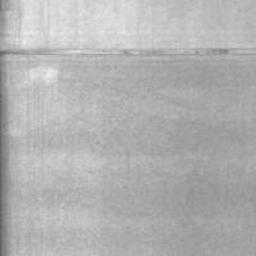Welding line: (0, 46, 256, 58)
